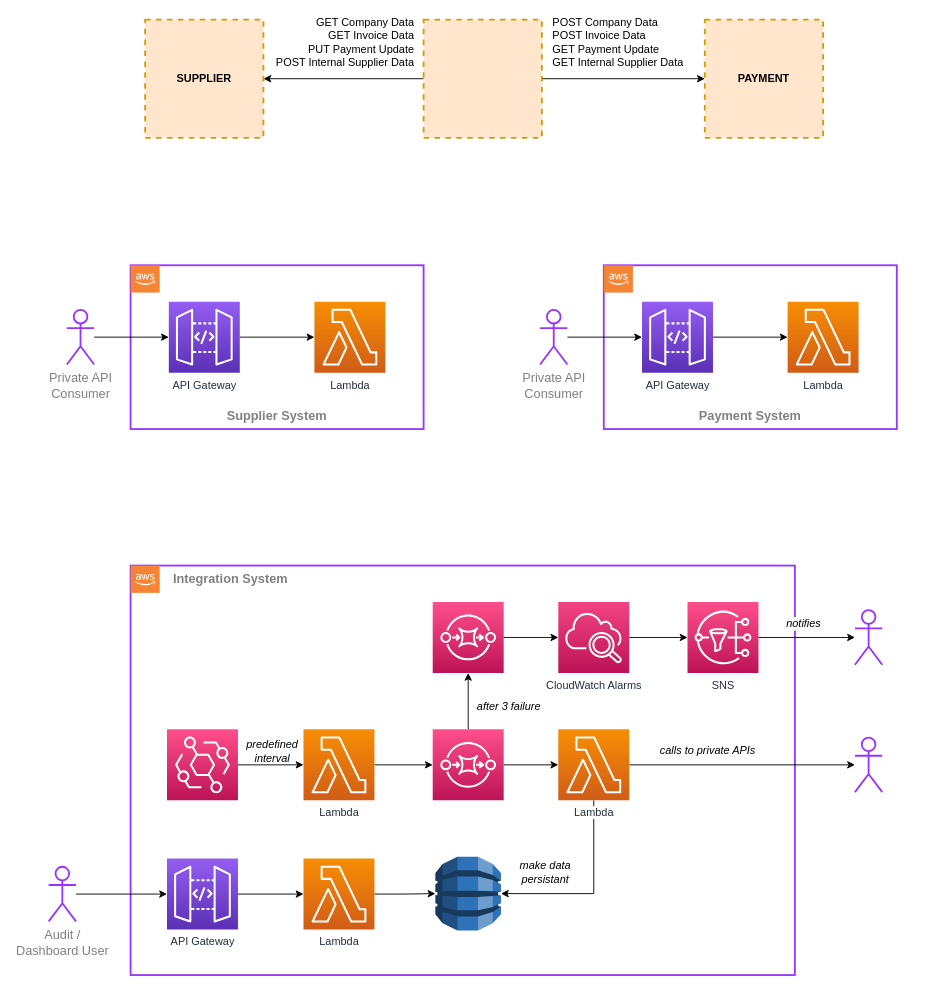
Some shapes in this 937 by 991 pixel diagram are drawn without their labels. The shapes that lost their labels are listed below. From the top down, each one's centre as x and y in pixels, then its label:
the point at 482,78: INTEGRATION
the point at 468,637: Dead Letter Queue
the point at 868,637: System Operator
the point at 202,764: Event Bridge
the point at 468,764: SNS Queue
the point at 868,764: External System Supplier / Payment
the point at 467,893: DynamoDB
